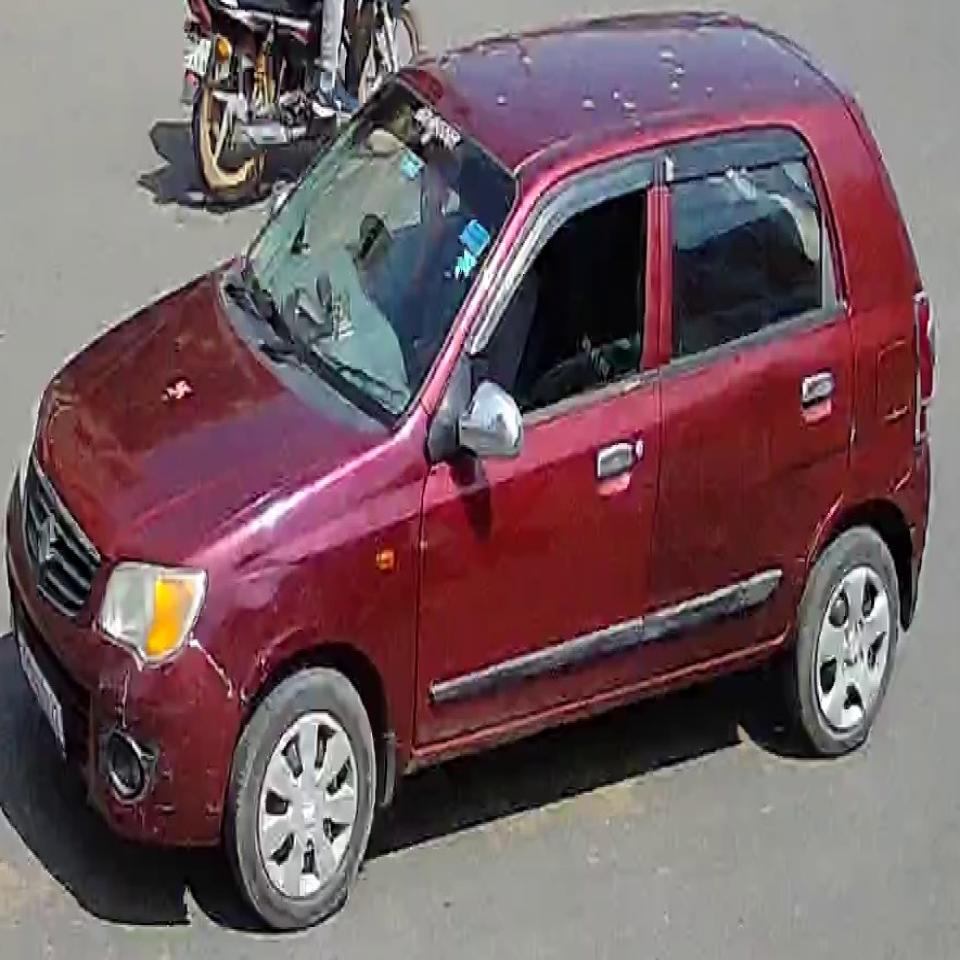head_light: (95, 562, 208, 661)
